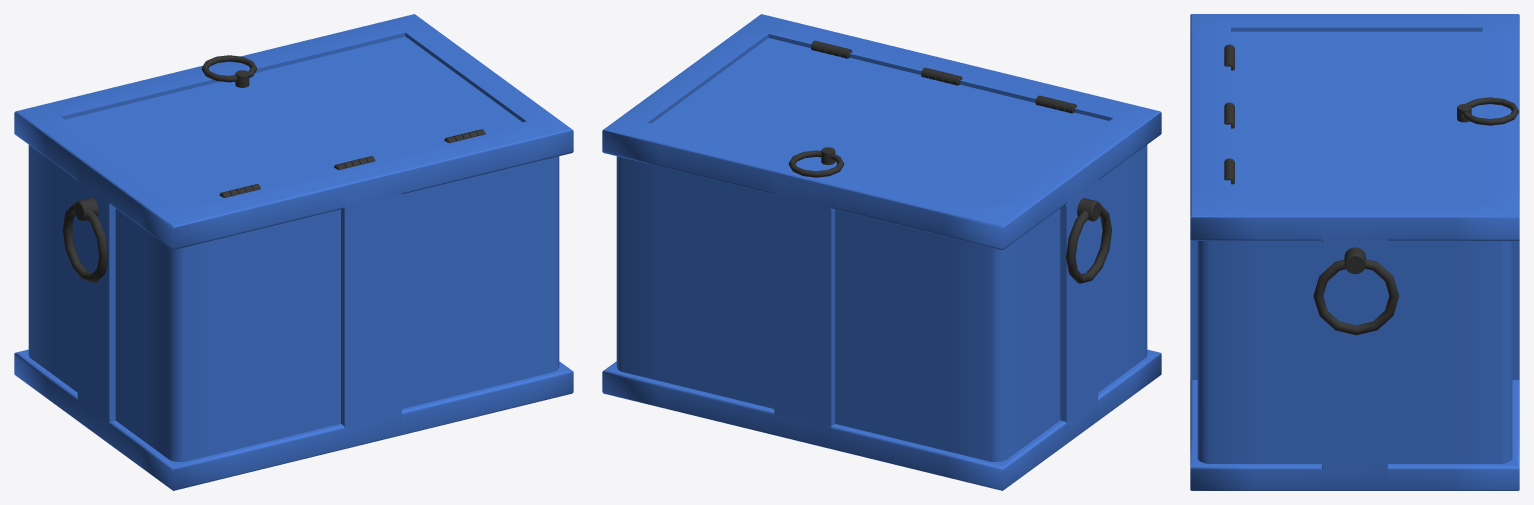
Rendered from trunk.FBX.
The picture shows the model from 3 angles, left to right: view 1: azimuth 30°, elevation 25°; view 2: azimuth 150°, elevation 25°; view 3: azimuth 270°, elevation 25°; orthographic projection. The views are drawn at different scales.
Visible parts, largest first — view 1: Trunk; view 2: Trunk; view 3: Trunk.
Boxes of the visible parts, x1=… form: Trunk: x1=14, y1=14, x2=573, y2=490; Trunk: x1=602, y1=14, x2=1161, y2=490; Trunk: x1=1190, y1=14, x2=1519, y2=490.
Bounding box in the file's own units: 29.44 × 17.88 × 18.78.
